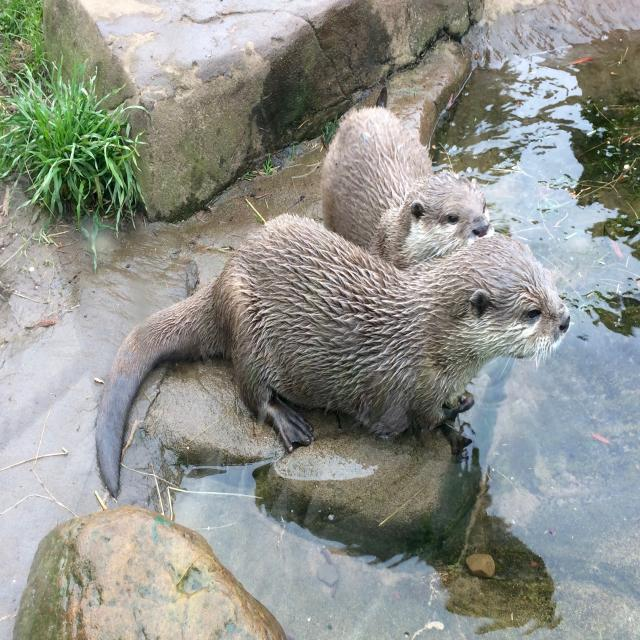otter: (95, 218, 571, 502), (323, 107, 493, 265)
